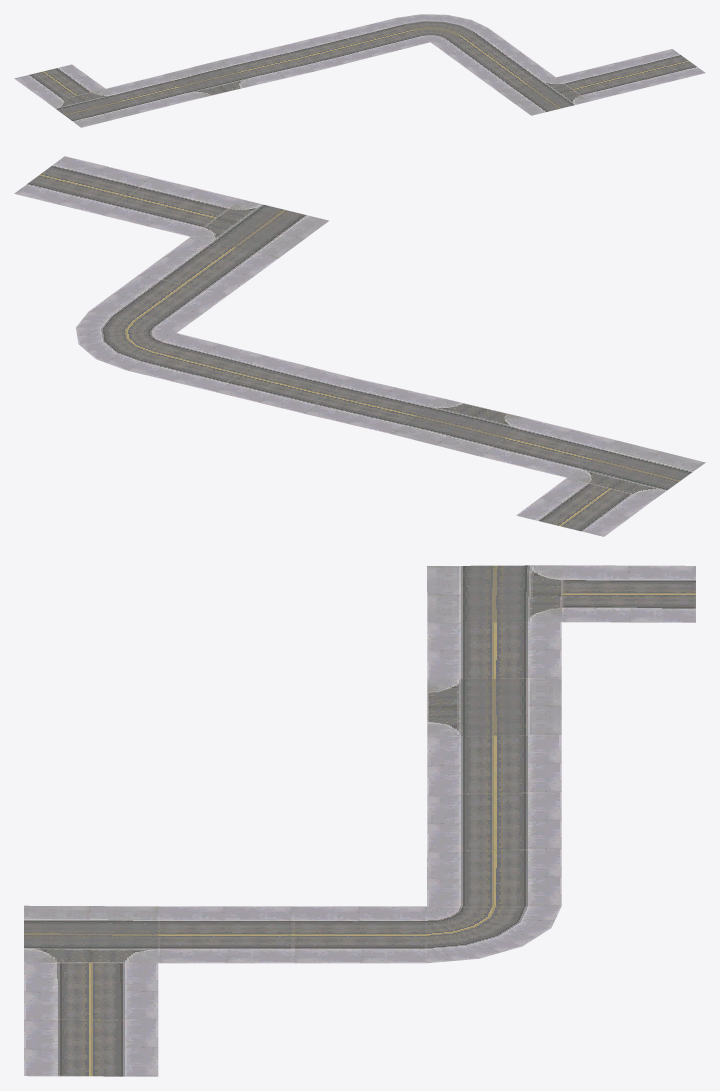
File: lodaseroad034.obj
3 renders of one model, top to bottom at view 1: azimuth 30°, elevation 25°; view 2: azimuth 150°, elevation 25°; view 3: azimuth 270°, elevation 25°, orthographic. The views are drawn at different scales.
Visible parts, largest first — view 1: lodasEroad034; view 2: lodasEroad034; view 3: lodasEroad034.
Boxes of the visible parts, x1,y1,x2,y2 form: lodasEroad034: [14, 14, 705, 127]; lodasEroad034: [14, 156, 705, 536]; lodasEroad034: [24, 565, 695, 1076].
Bounding box in the file's own units: 180 × 0.5463 × 100.
Materials: 2 (2 with a texture image).
